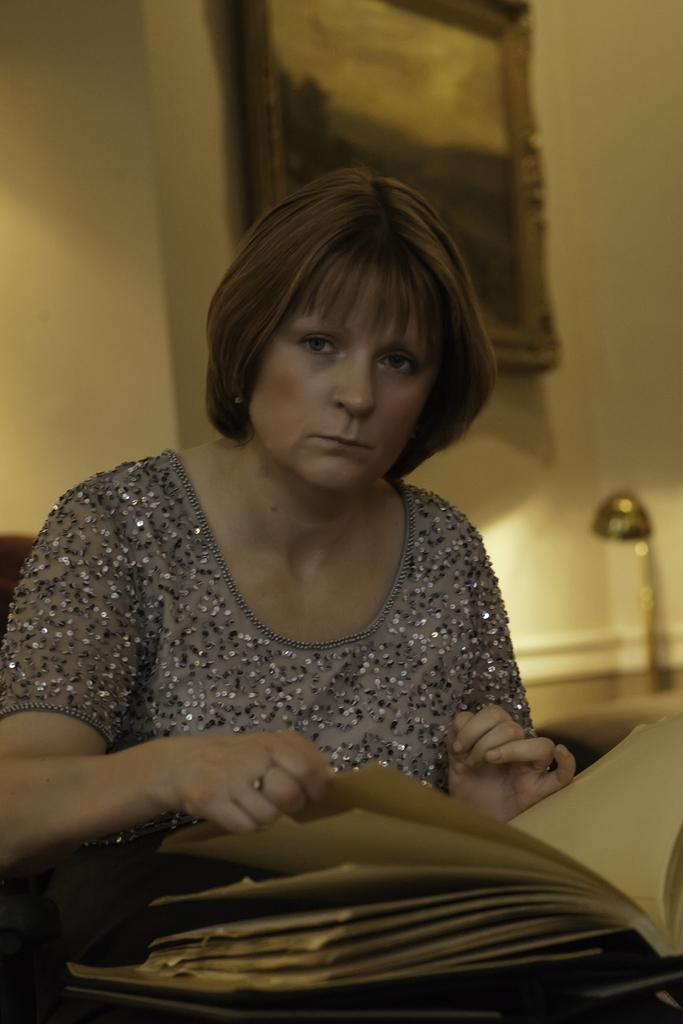Sem Máscara: (251, 265, 438, 489)
